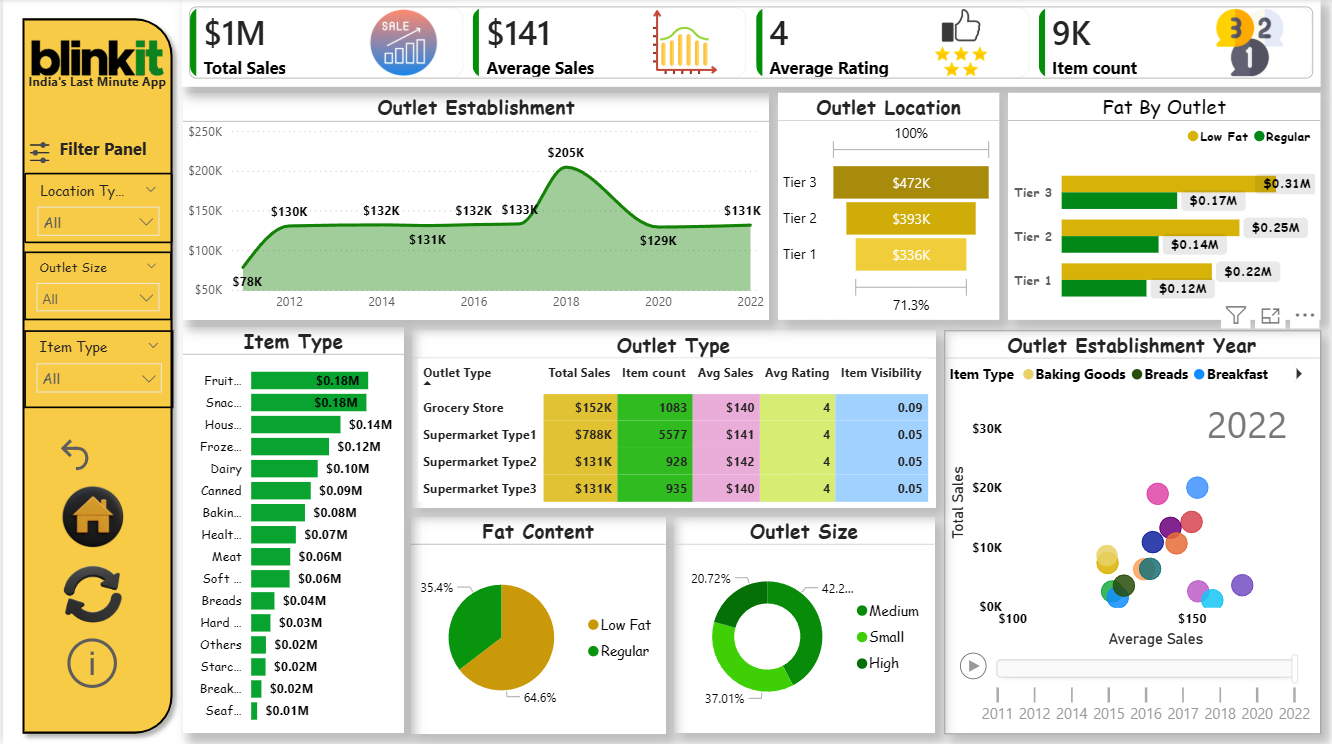

What the dashboard file says about the page in this screenshot:
{"tool":"powerbi","page":{"name":"Page 1","canvas":[1280,720],"ordinal":0},"visuals":[{"type":"cardVisual","fields":{"Data":["BlinkIT Grocery Data.Total Sales","BlinkIT Grocery Data.Average Sales","BlinkIT Grocery Data.Average Rating","BlinkIT Grocery Data.Item count"]},"box":[172.5,0,1099.1,84.5],"z":0},{"type":"shape","box":[10.1,10.1,163,708.4],"z":1000},{"type":"textbox","box":[10.1,64.9,163,39],"z":2000},{"type":"image","box":[10.1,23.1,163,67.8],"z":3000},{"type":"actionButton","box":[55,610.2,62.4,61.1],"z":4000},{"type":"image","box":[55,459.8,62.4,79.5],"z":5000},{"type":"image","box":[55,539.3,62.4,70.9],"z":6000},{"type":"slicer","fields":{"Values":["BlinkIT Grocery Data.Outlet Location Type"]},"box":[20.2,167.4,142.8,67.8],"z":7000},{"type":"slicer","fields":{"Values":["BlinkIT Grocery Data.Outlet Size"]},"box":[20.2,243.8,142,66.4],"z":8000},{"type":"slicer","fields":{"Values":["BlinkIT Grocery Data.Item Type"]},"box":[20.2,320.3,144.3,75],"z":9000},{"type":"image","box":[20.2,137.1,28.9,21.6],"z":10000},{"type":"textbox","box":[49.1,128.4,115.4,39],"z":11000},{"type":"image","box":[345,9.7,83.2,65.1],"z":12000},{"type":"image","box":[618.9,9.7,77.2,65.1],"z":13000},{"type":"image","box":[879.5,9.7,90.5,65.1],"z":14000},{"type":"image","box":[1160.6,9.7,85.7,65.1],"z":15000},{"type":"areaChart","title":"Outlet  Establishment ","fields":{"Category":["BlinkIT Grocery Data.Outlet Establishment Year"],"Y":["BlinkIT Grocery Data.Total Sales"]},"box":[173.7,90.5,565.8,219.6],"z":16000},{"type":"pieChart","title":"Fat Content","fields":{"Category":["BlinkIT Grocery Data.Item Fat Content"],"Y":["BlinkIT Grocery Data.Total Sales"]},"box":[393.9,499.2,246.7,210.6],"z":17000},{"type":"donutChart","title":"Outlet Size","fields":{"Category":["BlinkIT Grocery Data.Outlet Size"],"Y":["BlinkIT Grocery Data.Total Sales"]},"box":[647.9,499.5,250.9,208.7],"z":18000},{"type":"funnel","title":"Outlet Location ","fields":{"Category":["BlinkIT Grocery Data.Outlet Location Type"],"Y":["BlinkIT Grocery Data.Total Sales"]},"box":[748,90.5,213.5,219.6],"z":19000},{"type":"clusteredBarChart","title":"Item Type","fields":{"Category":["BlinkIT Grocery Data.Item Type"],"Y":["BlinkIT Grocery Data.Total Sales"]},"box":[173.1,316,213.5,392.4],"z":19001},{"type":"clusteredBarChart","title":"Fat By Outlet  ","fields":{"Category":["BlinkIT Grocery Data.Outlet Location Type"],"Y":["BlinkIT Grocery Data.Total Sales"],"Series":["BlinkIT Grocery Data.Item Fat Content"]},"box":[970,90.5,301.6,219.6],"z":19002},{"type":"tableEx","title":"Outlet Type","fields":{"Values":["BlinkIT Grocery Data.Outlet Type","BlinkIT Grocery Data.Total Sales","BlinkIT Grocery Data.Item count","BlinkIT Grocery Data.Average Sales","BlinkIT Grocery Data.Average Rating","Median(BlinkIT Grocery Data.Item Visibility)"]},"box":[394.5,319.7,505.5,171.3],"z":19003},{"type":"scatterChart","title":"Outlet Establishment Year","fields":{"X":["BlinkIT Grocery Data.Average Sales"],"Y":["BlinkIT Grocery Data.Total Sales"],"Play":["BlinkIT Grocery Data.Outlet Establishment Year"],"Series":["BlinkIT Grocery Data.Item Type"],"Size":["Count(BlinkIT Grocery Data.Outlet Location Type)"]},"box":[908.9,320.3,362.1,389.5],"z":19005},{"type":"actionButton","box":[49.5,419.8,100.1,39.8],"z":19006}]}

Visuals, with their boxes in screenshot pixels (x1, y1, x2, y2), scaled from the page's 1280x720 canvas onto the 1332x744 screenshot:
cardVisual - BlinkIT Grocery Data.Total Sales x BlinkIT Grocery Data.Average Sales: [180, 0, 1323, 87]
shape: [11, 10, 180, 742]
textbox: [11, 67, 180, 107]
image: [11, 24, 180, 94]
actionButton: [57, 631, 122, 694]
image: [57, 475, 122, 557]
image: [57, 557, 122, 631]
slicer - BlinkIT Grocery Data.Outlet Location Type: [21, 173, 170, 243]
slicer - BlinkIT Grocery Data.Outlet Size: [21, 252, 169, 321]
slicer - BlinkIT Grocery Data.Item Type: [21, 331, 171, 408]
image: [21, 142, 51, 164]
textbox: [51, 133, 171, 173]
image: [359, 10, 446, 77]
image: [644, 10, 724, 77]
image: [915, 10, 1009, 77]
image: [1208, 10, 1297, 77]
"Outlet  Establishment " areaChart: [181, 94, 770, 320]
"Fat Content" pieChart: [410, 516, 667, 733]
"Outlet Size" donutChart: [674, 516, 935, 732]
"Outlet Location " funnel: [778, 94, 1001, 320]
"Item Type" clusteredBarChart: [180, 327, 402, 732]
"Fat By Outlet  " clusteredBarChart: [1009, 94, 1323, 320]
"Outlet Type" tableEx: [411, 330, 937, 507]
"Outlet Establishment Year" scatterChart: [946, 331, 1323, 733]
actionButton: [52, 434, 156, 475]
